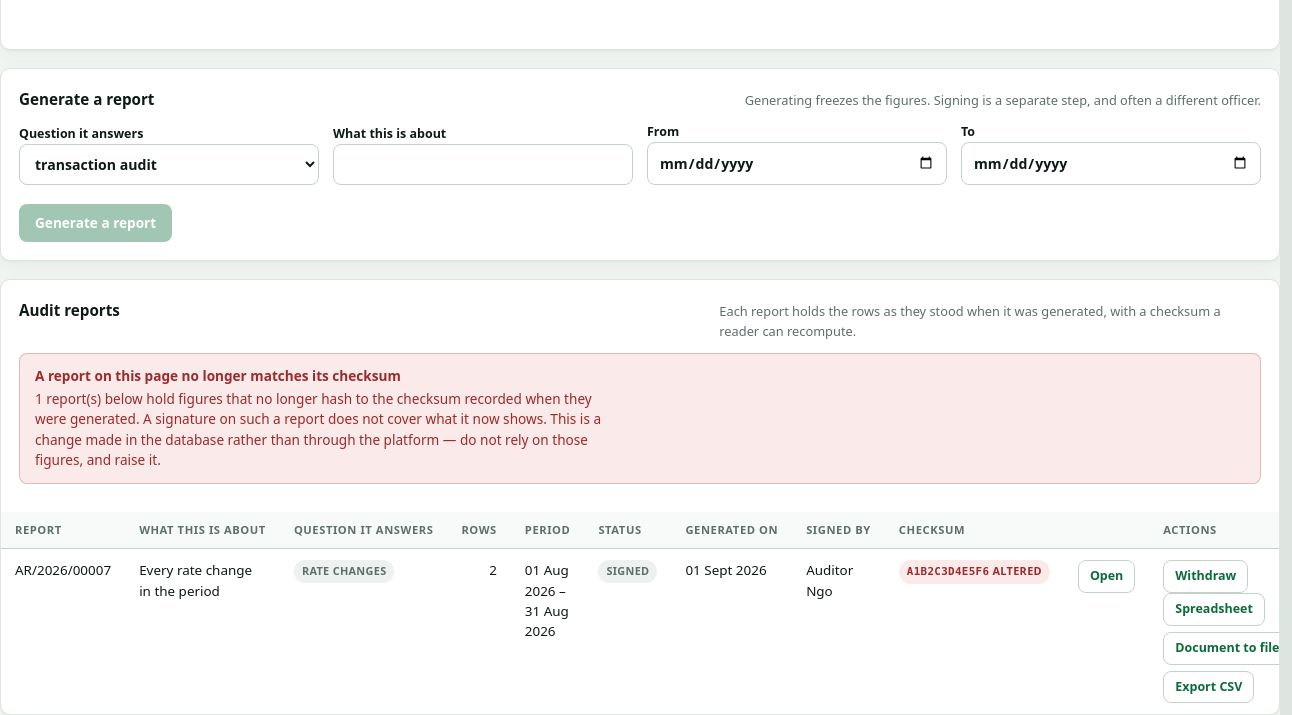
Test case: opening a report the workbench has marked altered › shows the rows as they were frozen
(page scrolled)
Click the button "Open".
click(1107, 577)  # box 1078,560 -> 1135,593
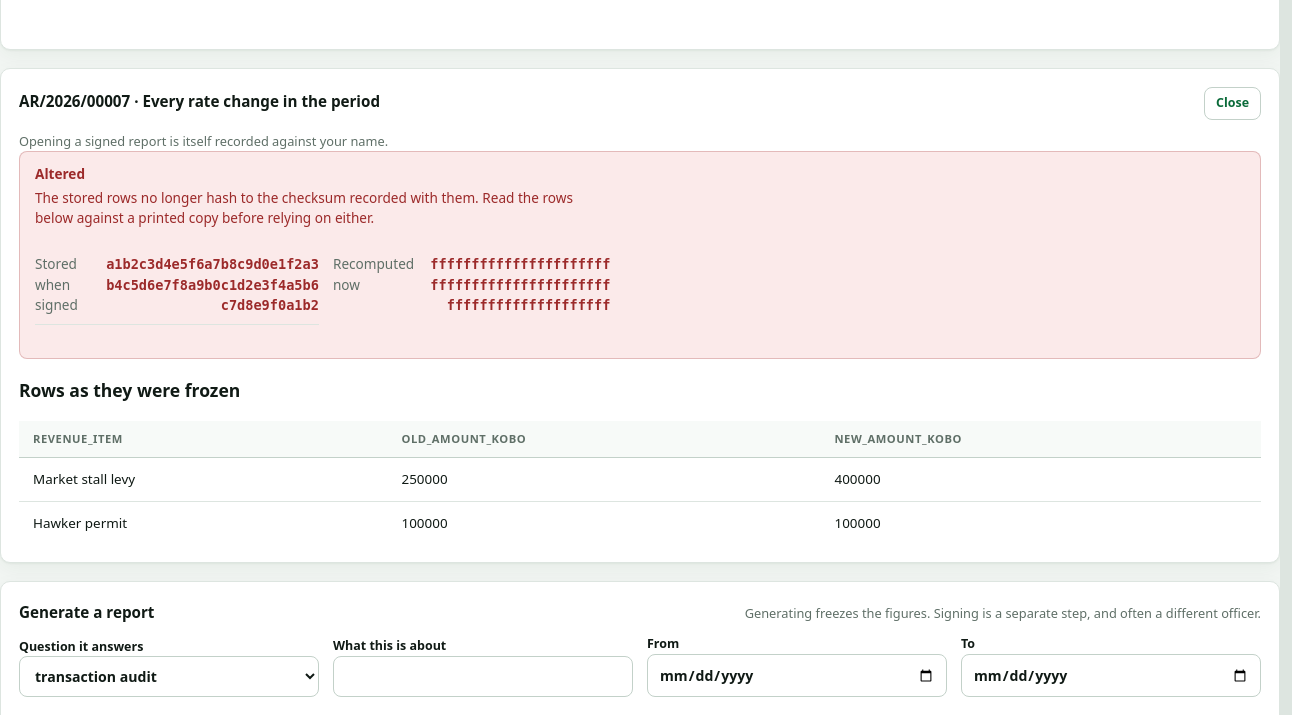
Result: the text "Market stall levy" is shown at 19,458 -> 388,501
Result: the text "Hawker permit" is shown at 19,501 -> 388,544
